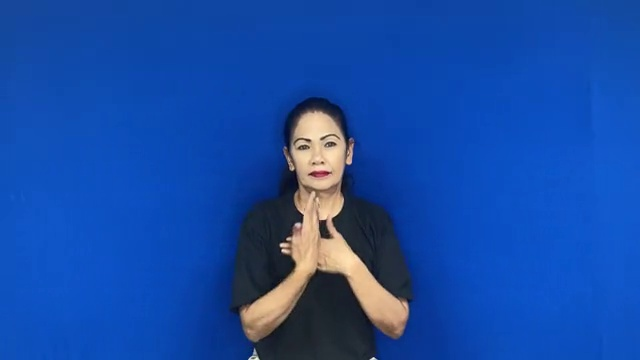bread: (272, 186, 369, 283)
